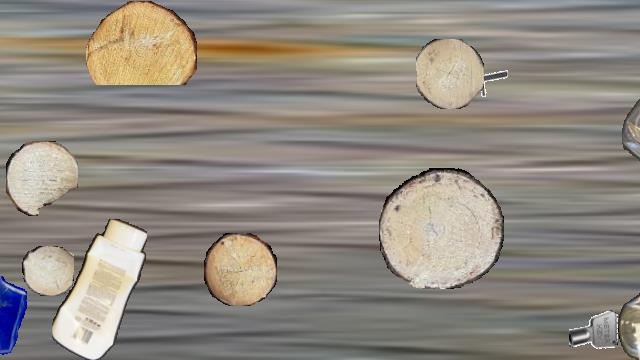glass: (0, 275, 36, 359)
metal: (569, 306, 619, 356), (470, 61, 508, 99)
plastic: (52, 219, 146, 359), (622, 1, 640, 177), (618, 279, 640, 359)
wood: (379, 168, 503, 288), (86, 1, 196, 85), (6, 141, 78, 215), (204, 233, 276, 305), (416, 39, 484, 109), (22, 246, 74, 296)
